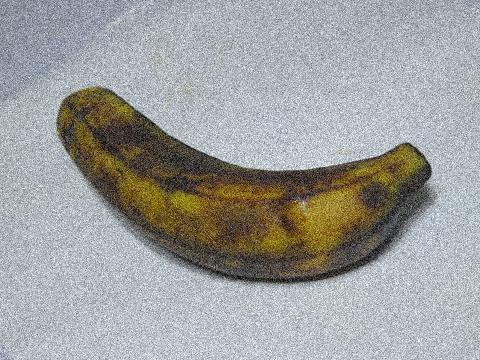overripe: (39, 79, 439, 291)
